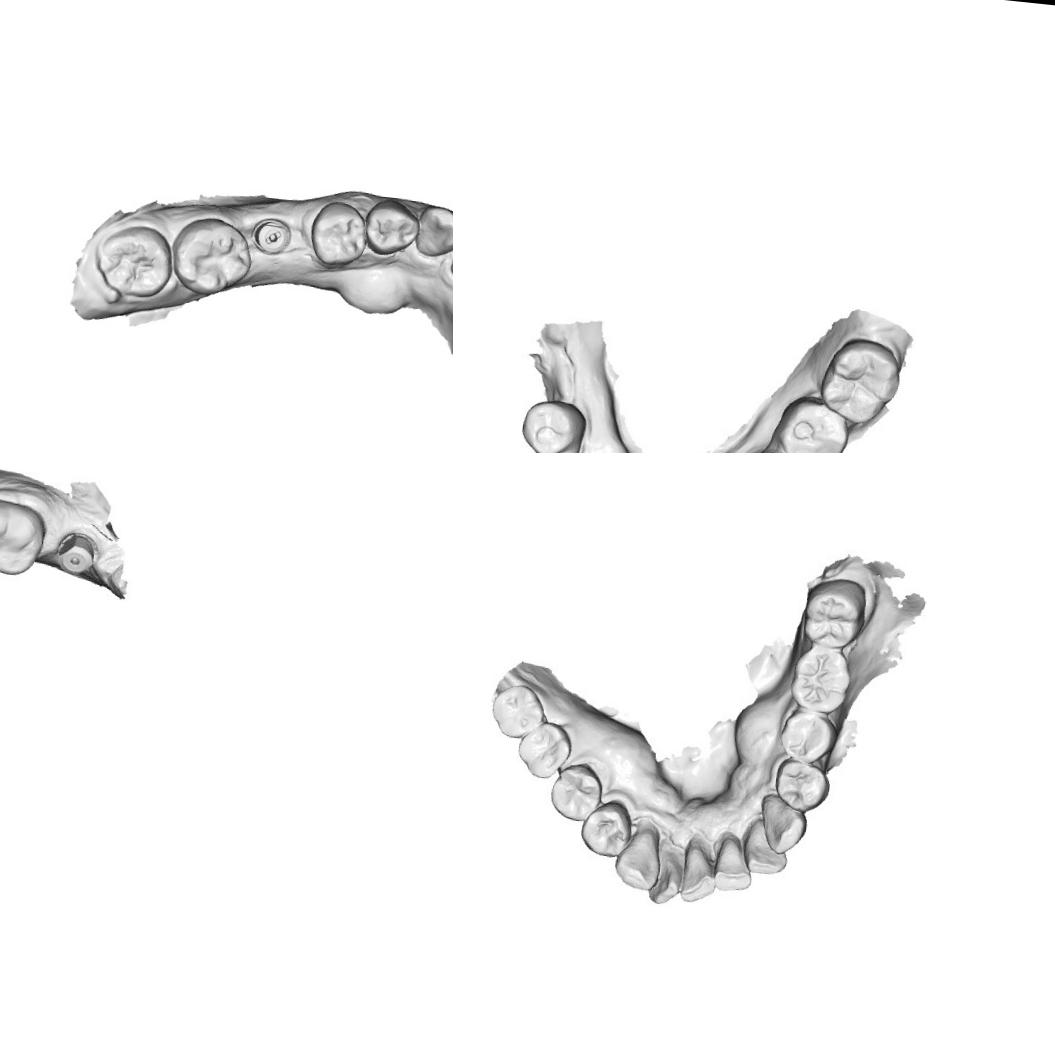canine: (611, 824, 667, 894), (754, 792, 809, 858), (409, 198, 453, 261)
implant: (53, 527, 99, 580)
implant_minus: (250, 213, 296, 260)
incisor: (710, 835, 755, 898), (677, 841, 719, 906), (742, 822, 790, 878), (647, 842, 683, 908)
molar: (167, 212, 259, 302), (89, 218, 176, 302), (821, 337, 902, 427), (785, 642, 856, 718), (798, 577, 868, 652), (0, 494, 50, 581), (512, 716, 574, 782), (780, 394, 846, 453), (489, 680, 550, 742)
premolar: (304, 197, 371, 273), (362, 194, 424, 262), (774, 707, 839, 767), (768, 754, 830, 814), (546, 762, 606, 824), (574, 798, 634, 860), (520, 394, 580, 453)
